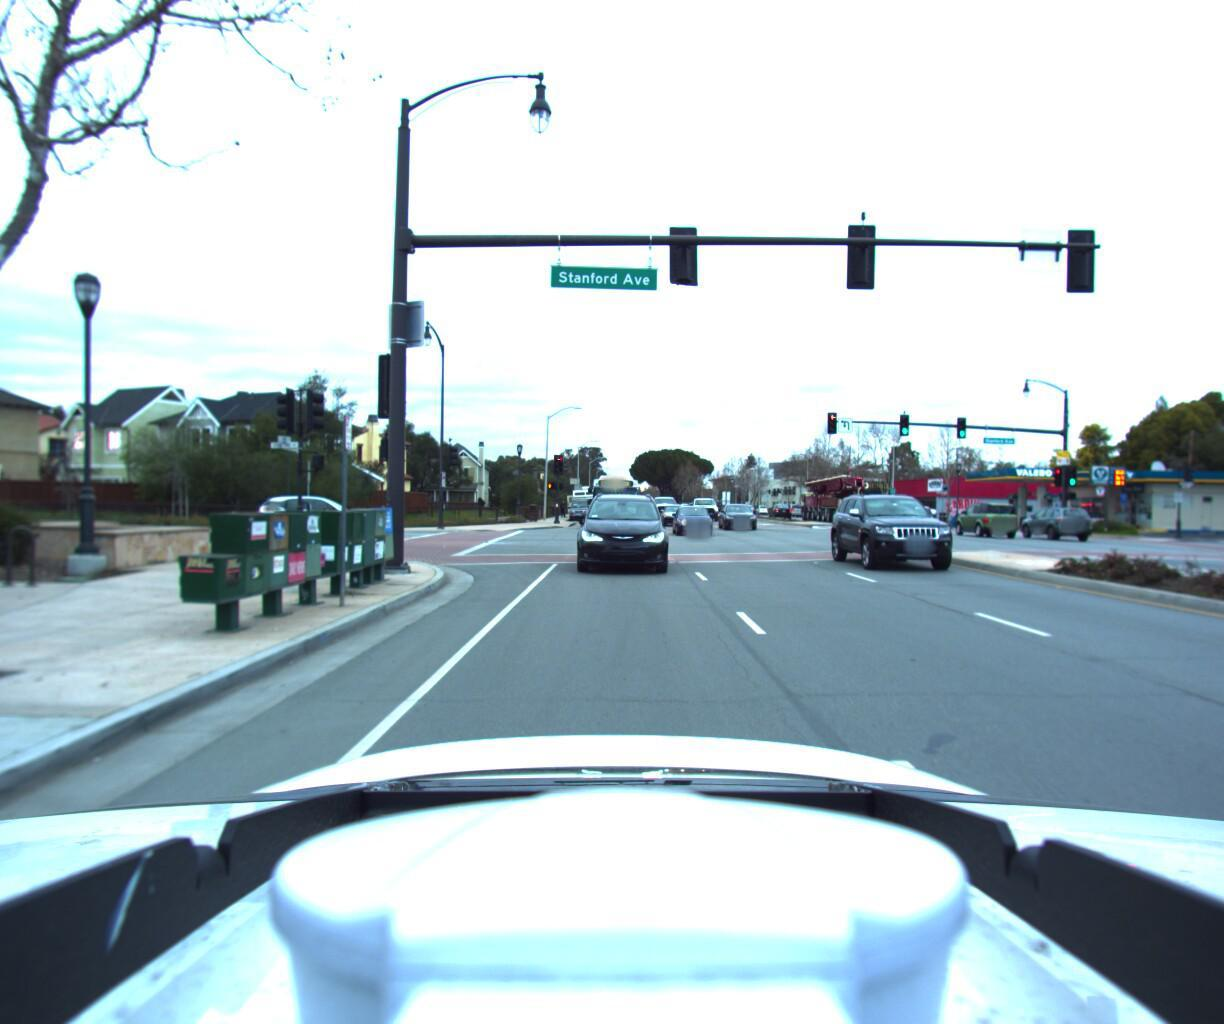bus: (586, 468, 641, 525)
car: (833, 485, 980, 575), (571, 487, 665, 576), (252, 493, 369, 541), (1007, 506, 1092, 542), (943, 499, 1020, 535), (716, 497, 762, 530), (669, 504, 713, 536), (687, 491, 721, 520), (652, 499, 684, 524), (649, 494, 677, 519), (566, 498, 589, 520), (764, 502, 789, 517), (1222, 507, 1224, 529)
other_vehicle: (567, 483, 598, 518)
truck: (790, 472, 877, 527)
